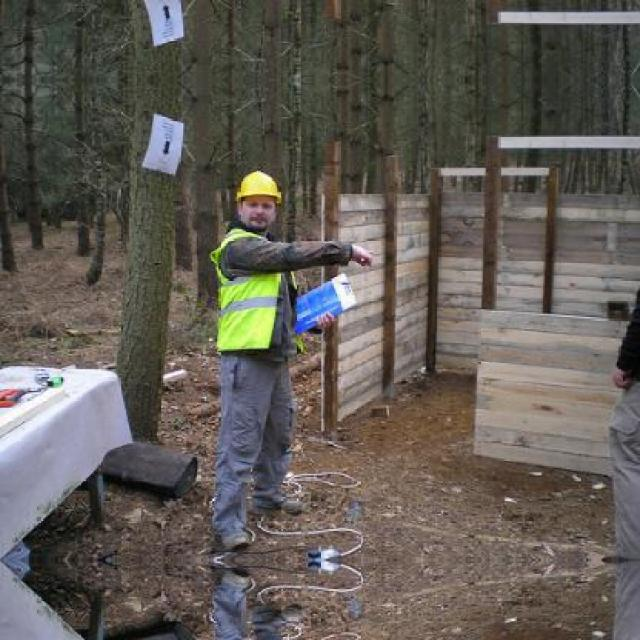Reflective-Jacket: (200, 226, 300, 363)
Safety-Helmet: (226, 163, 291, 211)
